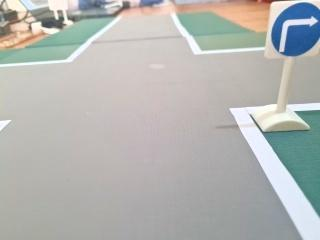right: (269, 1, 320, 62)
